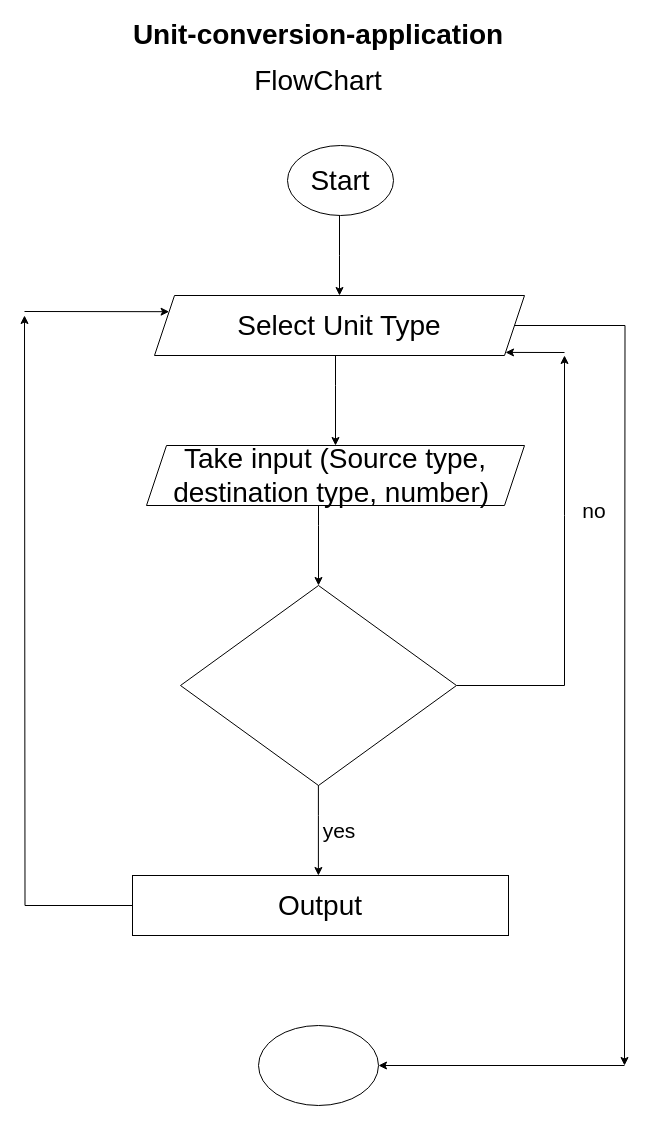
This 651x1123 diagram has some shape labels left out. Each missing label, with the box of its shape:
Check and covert: (180, 584, 456, 786)
End: (258, 1024, 378, 1106)
